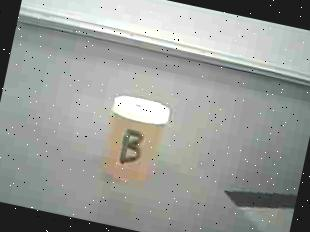Bottle B: (83, 84, 182, 197)
